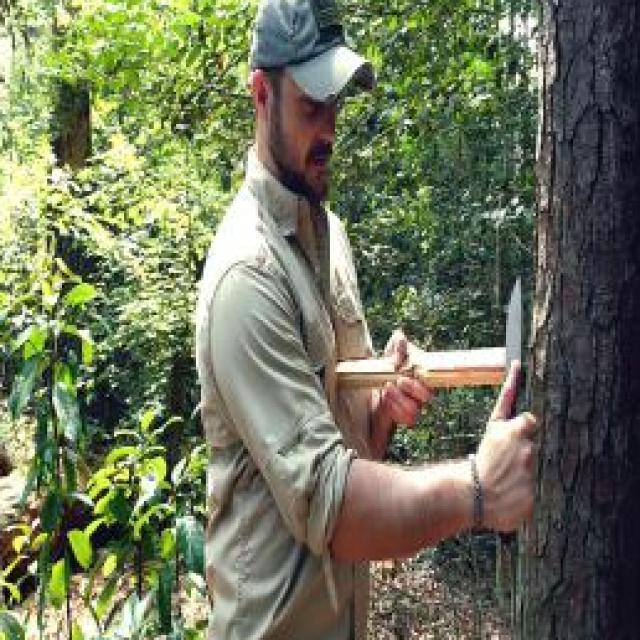knife: (484, 265, 543, 511)
